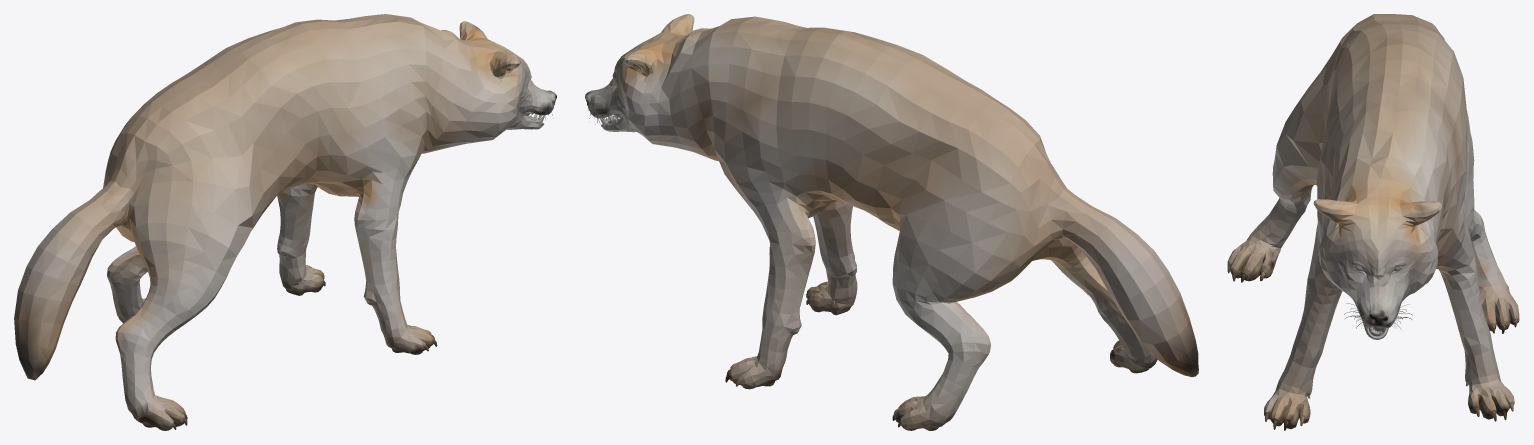
The model's file is wolf.gt.glb.
3 views of the same model, side by side, from view 1: azimuth 30°, elevation 25°; view 2: azimuth 150°, elevation 25°; view 3: azimuth 270°, elevation 25° (orthographic). The views are drawn at different scales.
Visible parts, largest first — view 1: root; view 2: root; view 3: root.
Part boxes in pixels (<box>): root: <box>14,14,556,430</box>; root: <box>585,14,1198,430</box>; root: <box>1227,14,1519,430</box>.
Bounding box in the file's own units: 0.5945 × 0.3158 × 0.2408.
Materials: 1 (1 with a texture image).
